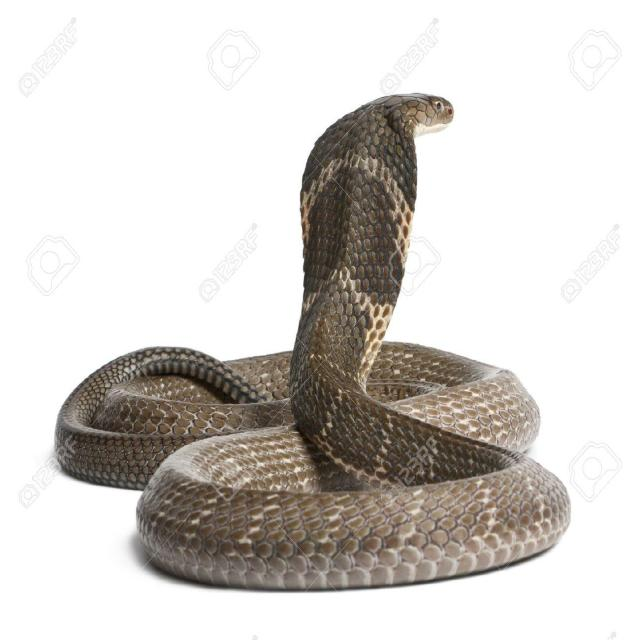Snake: (54, 91, 571, 591)
